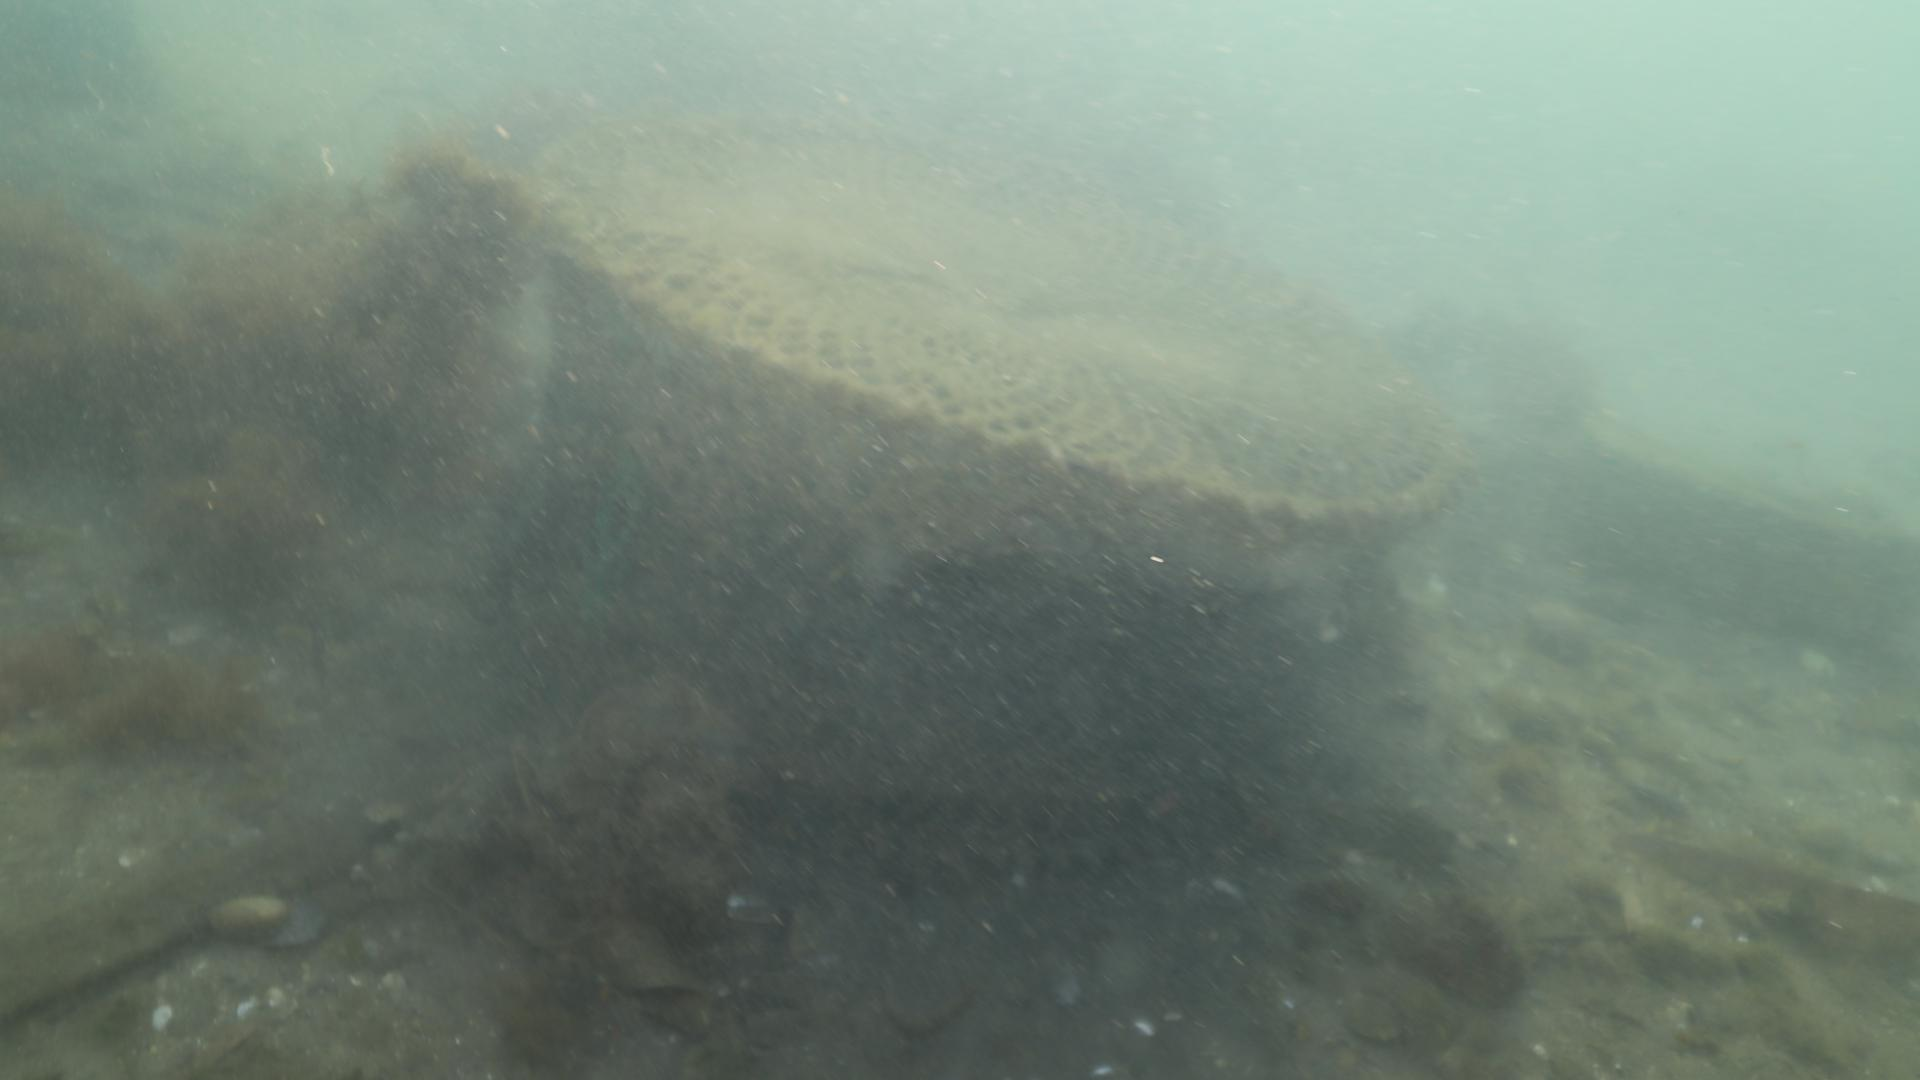circular fish trap: (525, 104, 1469, 881)
